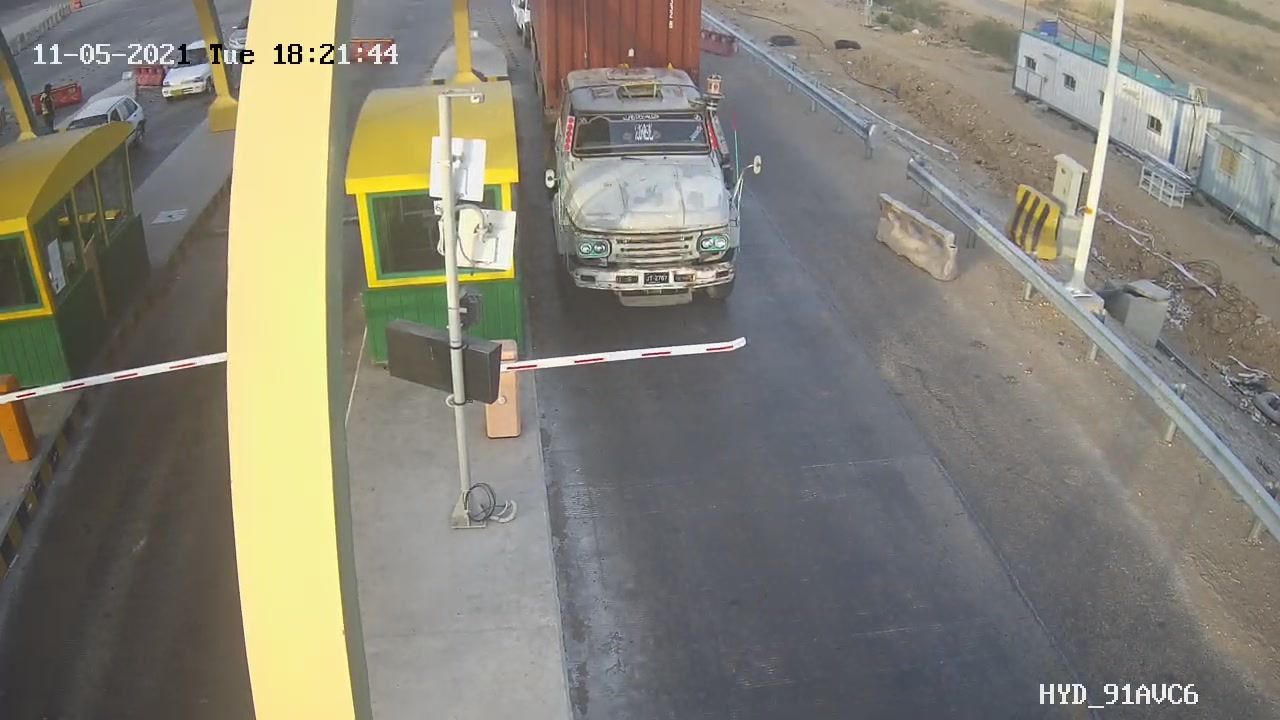F6: (516, 5, 781, 309)
